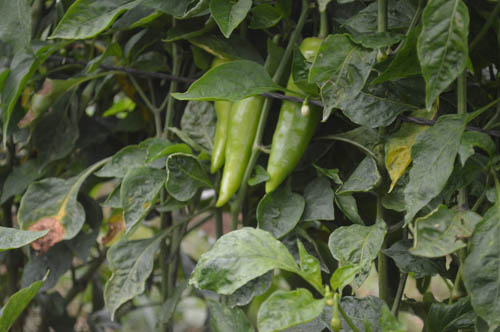ChiliPepper: (264, 37, 336, 197), (217, 92, 261, 207), (210, 56, 238, 174)
